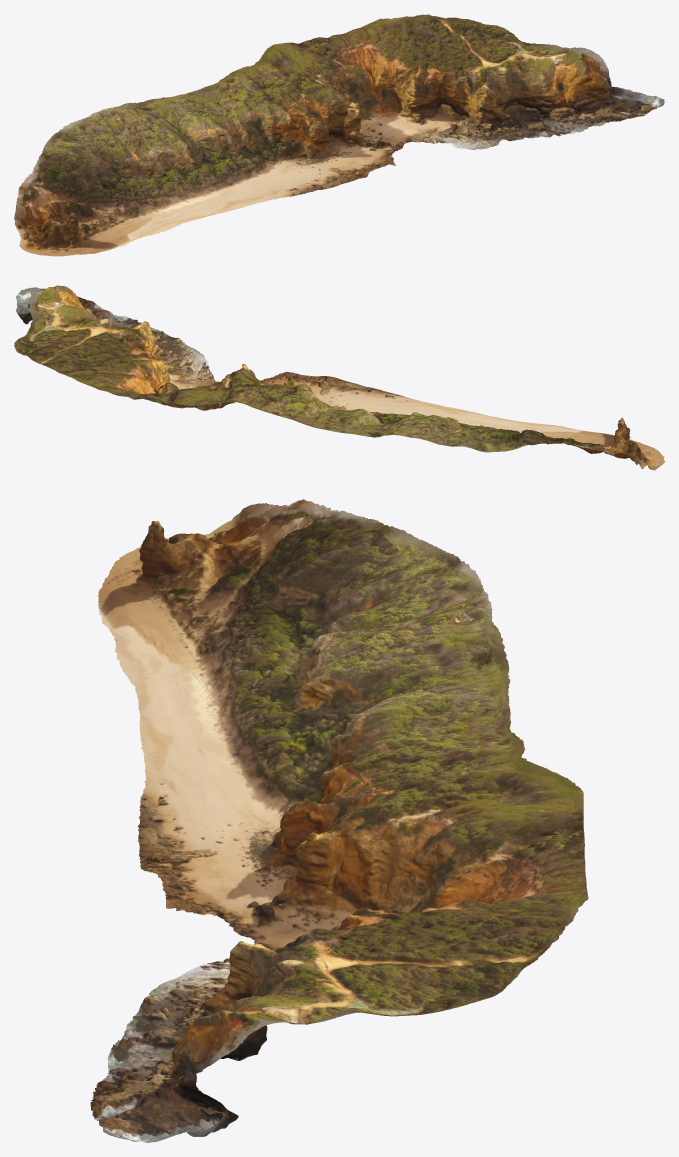
Rendered from split_point_victoria_australia.glb.
3 renders of one model, top to bottom at view 1: azimuth 30°, elevation 25°; view 2: azimuth 150°, elevation 25°; view 3: azimuth 270°, elevation 25°, orthographic. The views are drawn at different scales.
Visible parts, largest first — view 1: Object_3, Object_4, Object_5, Object_6; view 2: Object_3, Object_5, Object_4, Object_6; view 3: Object_3, Object_4, Object_5, Object_6.
Boxes of the visible parts, bbox=[...] form: Object_3: bbox=[22, 14, 610, 242]; Object_4: bbox=[17, 31, 630, 255]; Object_5: bbox=[14, 81, 664, 256]; Object_6: bbox=[14, 61, 609, 231]; Object_3: bbox=[14, 285, 627, 458]; Object_5: bbox=[15, 287, 664, 470]; Object_4: bbox=[17, 285, 664, 469]; Object_6: bbox=[63, 290, 642, 462]; Object_3: bbox=[108, 501, 588, 1072]; Object_4: bbox=[114, 499, 521, 1127]; Object_5: bbox=[90, 503, 432, 1142]; Object_6: bbox=[141, 503, 490, 1069].
Size of the model in its own units: 333 by 27.01 by 114.
Materials: 1 (1 with a texture image).
